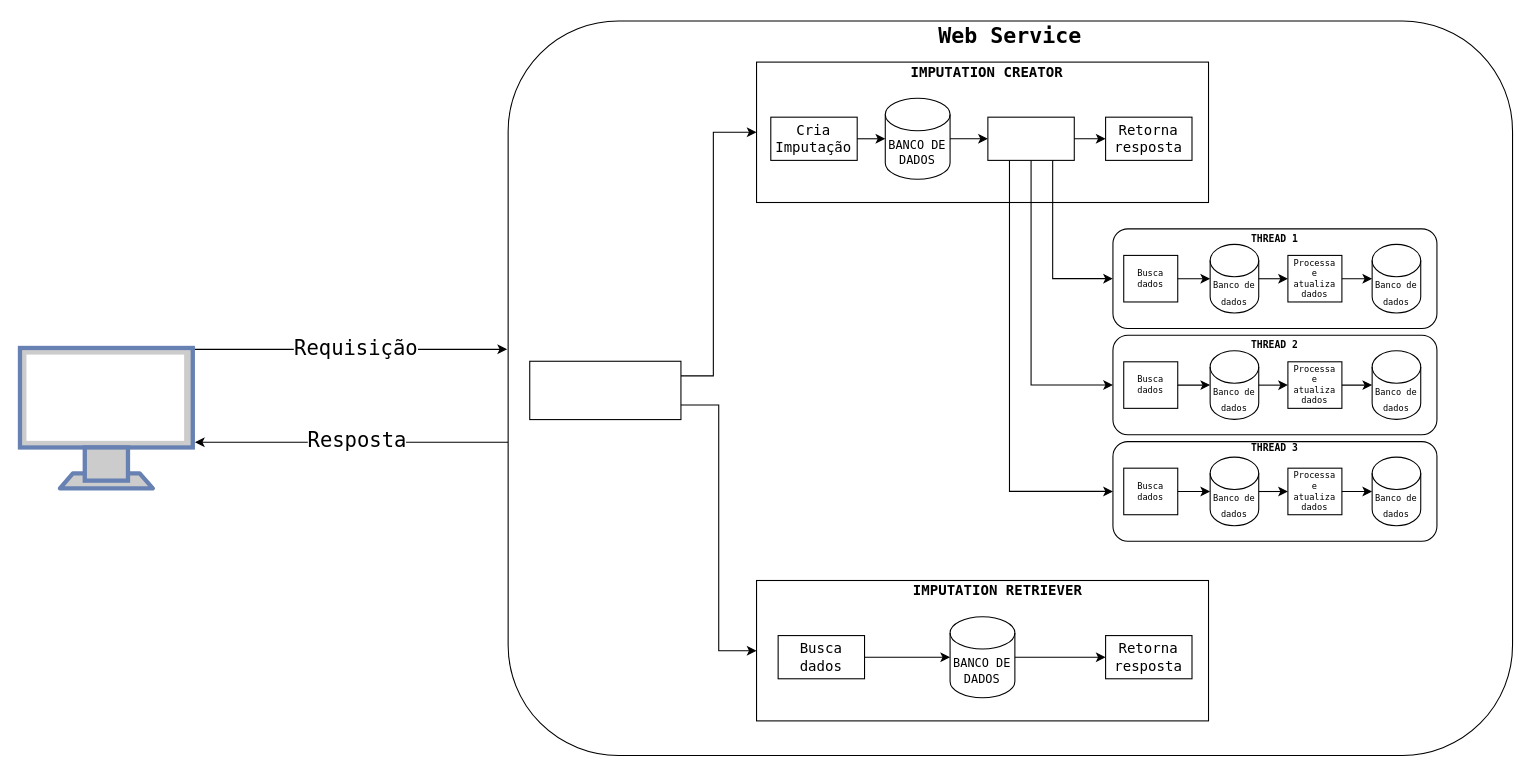
Some shapes in this 1531 by 774 pixel diagram are drawn without their labels. Here are the shapes that lost their labels. From the top down, the centre of each, then its label:
point 1030,138: Cria thread
point 605,390: ROUTER
point 105,417: CLIENTE
